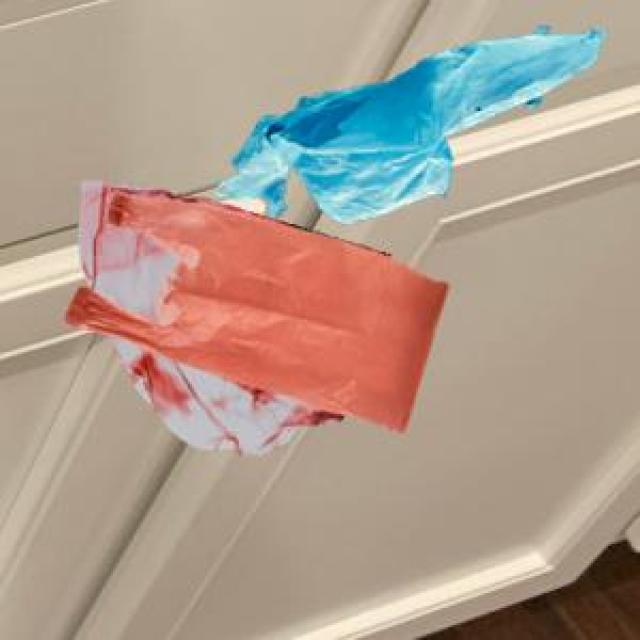plastic: (44, 31, 621, 452)
